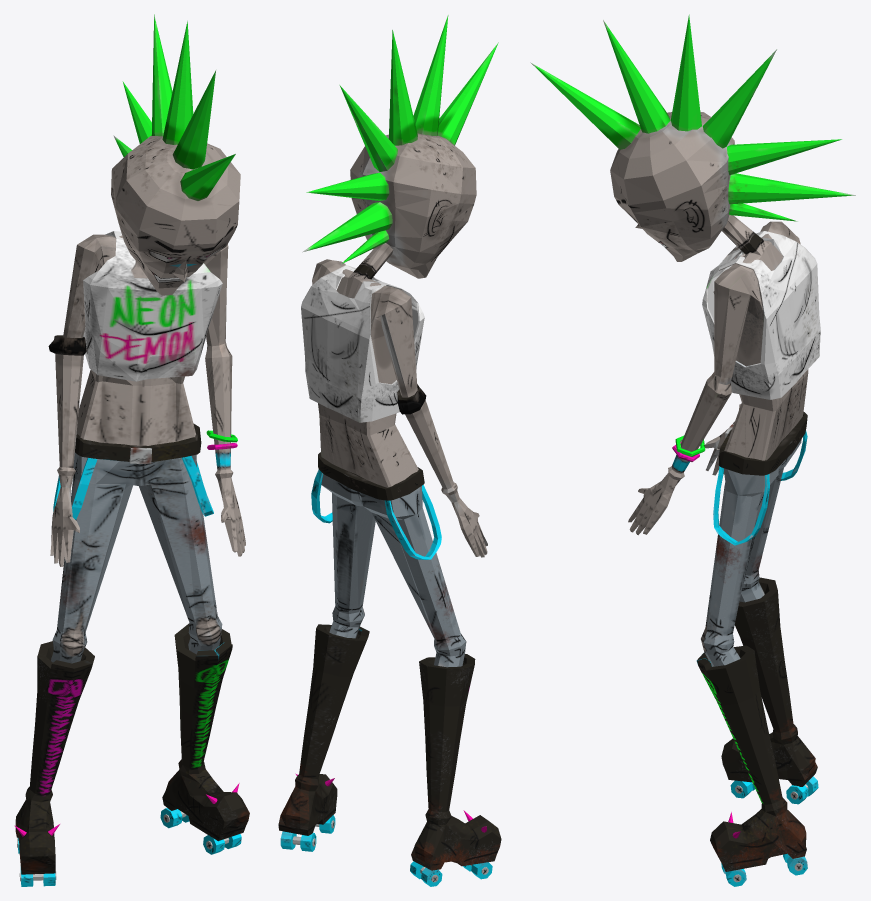
File: punkAnimation_000033.obj
3 renders of one model, left to right at view 1: azimuth 30°, elevation 25°; view 2: azimuth 150°, elevation 25°; view 3: azimuth 270°, elevation 25°, orthographic. The views are drawn at different scales.
Parts seen in each view (by area): view 1: Cube.004_Cube.003; view 2: Cube.004_Cube.003; view 3: Cube.004_Cube.003.
Part boxes in pixels (x1,y1,x2,y2): Cube.004_Cube.003: (14, 14, 249, 886); Cube.004_Cube.003: (278, 15, 501, 886); Cube.004_Cube.003: (530, 14, 855, 886).
Size of the model in its own units: 1.98 by 7.39 by 2.61.
